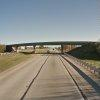Bridge: (6, 28, 83, 63)
